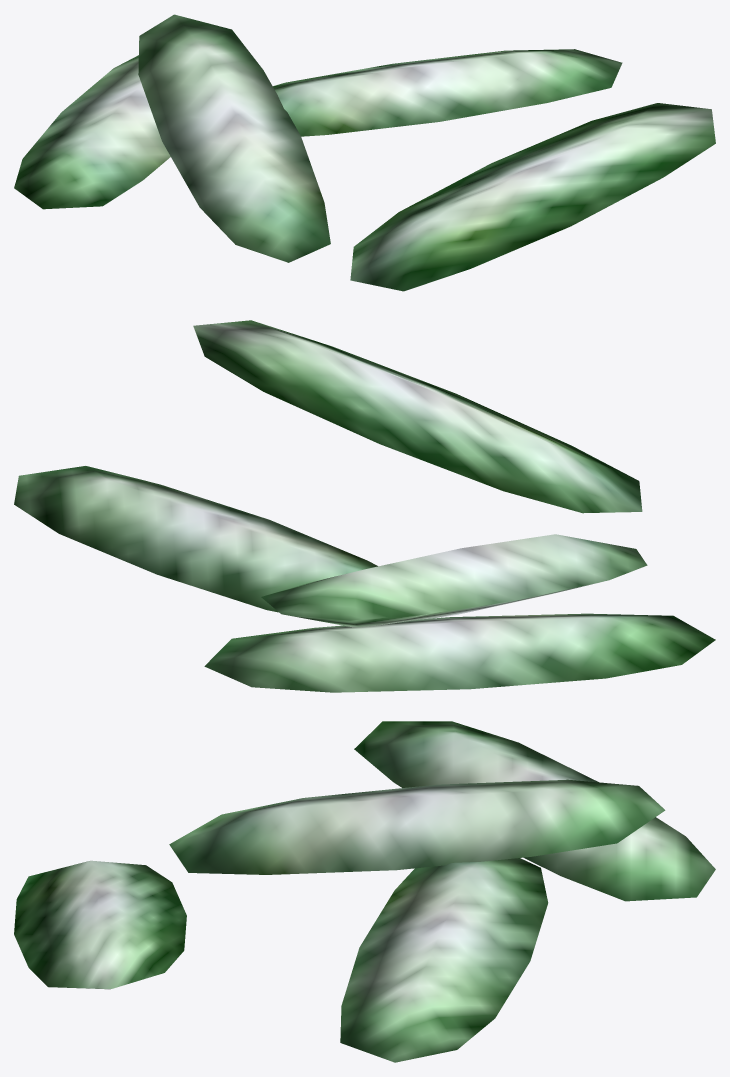
The model's file is KM_SEEDS_06.glb.
3 renders of one model, top to bottom at view 1: azimuth 30°, elevation 25°; view 2: azimuth 150°, elevation 25°; view 3: azimuth 270°, elevation 25°, orthographic. The views are drawn at different scales.
Visible parts, largest first — view 1: Mesh; view 2: Mesh; view 3: Mesh.
Boxes of the visible parts, <box> form: Mesh: <box>14,14,715,291</box>; Mesh: <box>14,320,715,692</box>; Mesh: <box>14,721,715,1062</box>.
Bounding box in the file's own units: 0.3483 × 0.0488 × 0.3026.
Materials: 1 (1 with a texture image).
